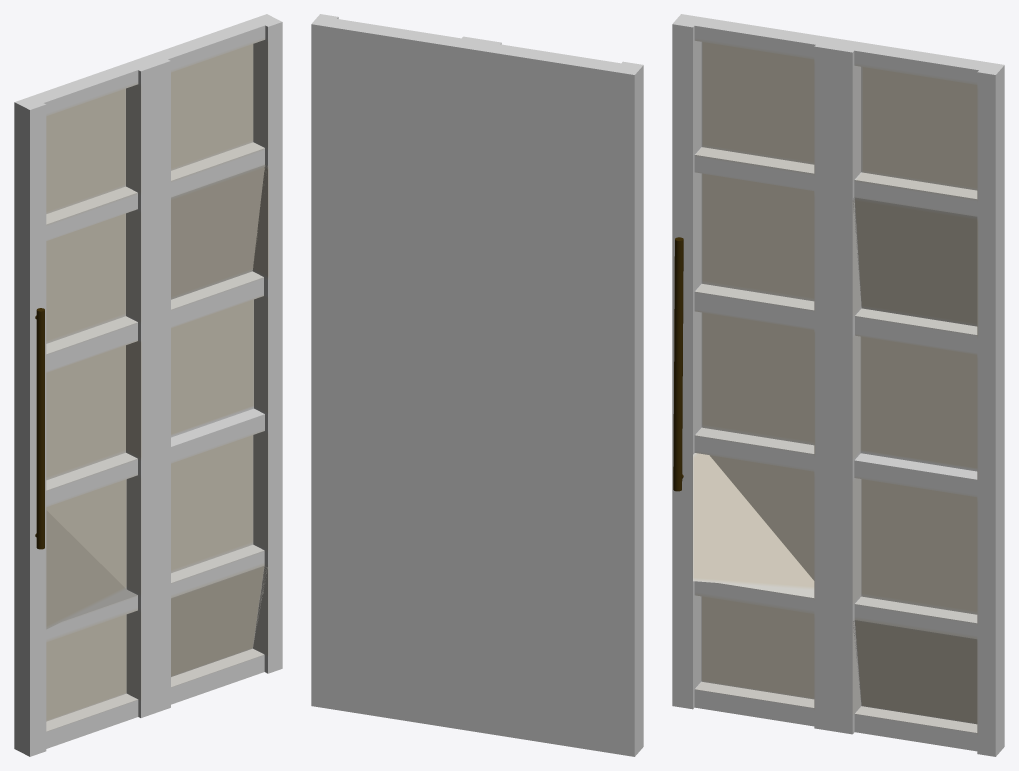
The model's file is wardrobe door2.fbx.
3 views of the same model, side by side, from view 1: azimuth 30°, elevation 25°; view 2: azimuth 150°, elevation 25°; view 3: azimuth 330°, elevation 25° (orthographic). The views are drawn at different scales.
Visible parts, largest first — view 1: wardrobe2, handle; view 2: wardrobe2; view 3: wardrobe2, handle.
Boxes of the visible parts, bbox=[...] form: wardrobe2: bbox=[14, 14, 282, 756]; handle: bbox=[36, 308, 44, 549]; wardrobe2: bbox=[311, 14, 643, 756]; wardrobe2: bbox=[672, 14, 1004, 756]; handle: bbox=[673, 237, 683, 491].
Size of the model in its own units: 9.87 by 21.54 by 2.67.
